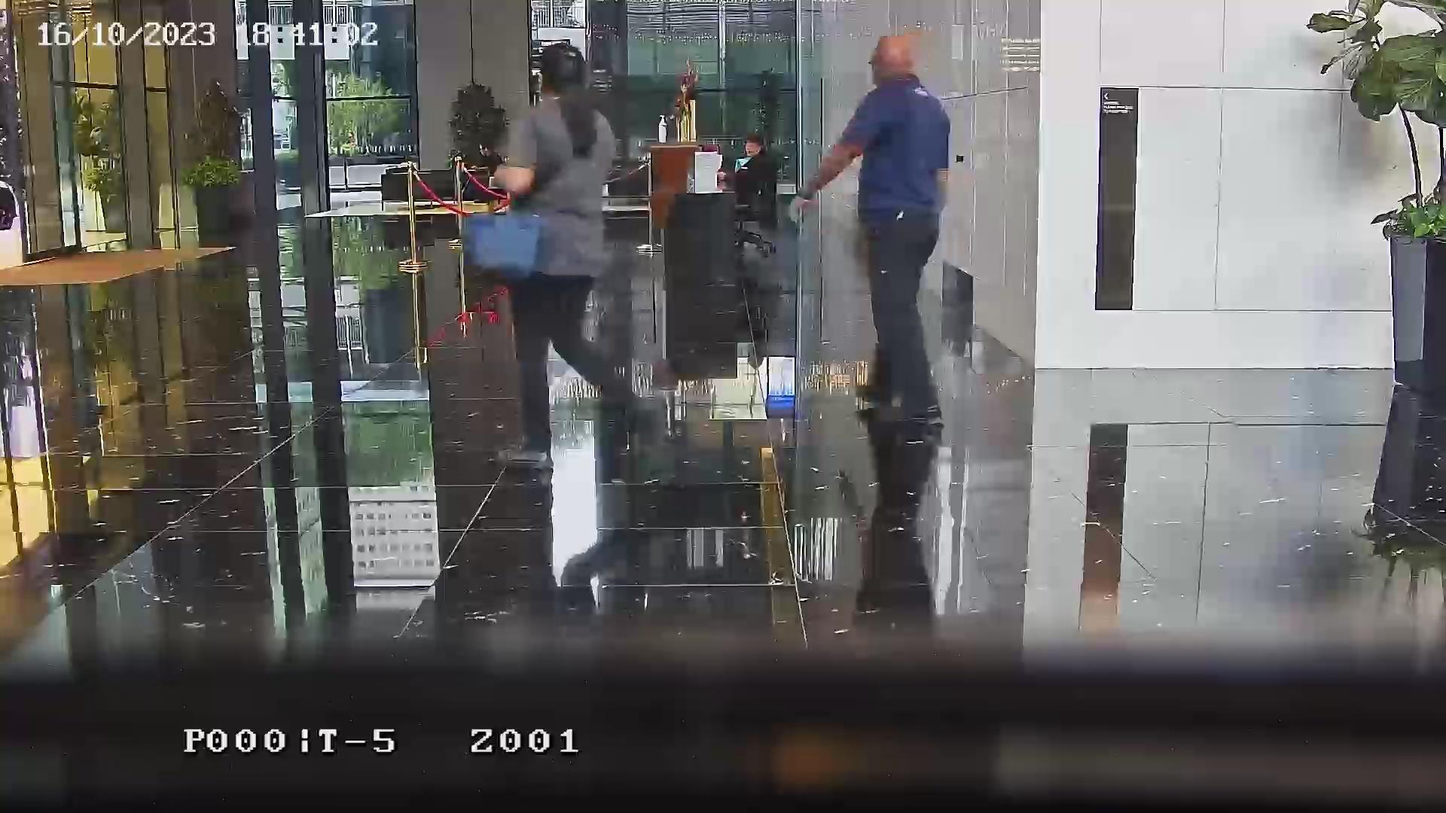person: (791, 30, 952, 428), (493, 43, 620, 444), (723, 135, 768, 203)
